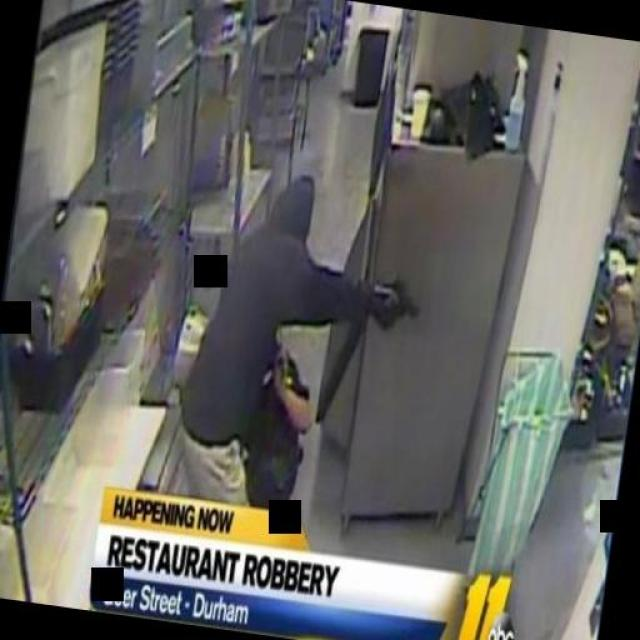gun: (370, 262, 425, 354)
